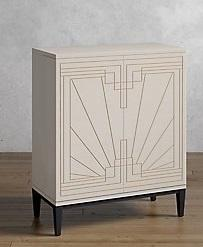cabinet_door: (61, 64, 123, 187), (124, 64, 181, 184)
